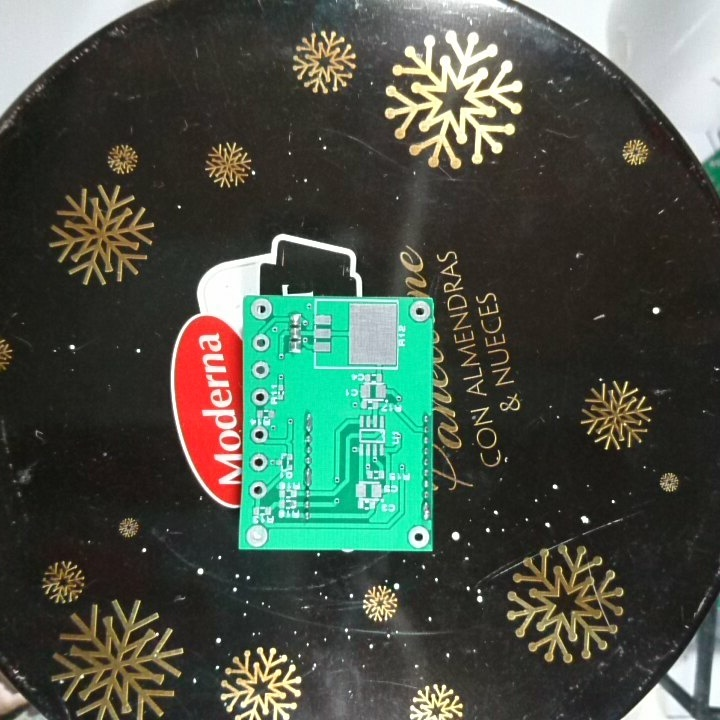F: (243, 522, 270, 549), (408, 298, 433, 326), (246, 477, 269, 502), (407, 526, 431, 549), (249, 298, 273, 320), (248, 385, 271, 407), (248, 451, 269, 475), (251, 332, 271, 353), (248, 425, 269, 445), (250, 360, 270, 380)
P: (302, 410, 314, 435), (302, 465, 314, 489), (420, 500, 431, 524)
